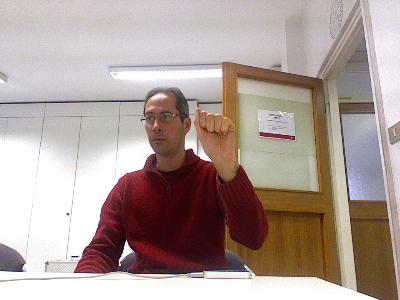石头: (193, 108, 236, 160)
